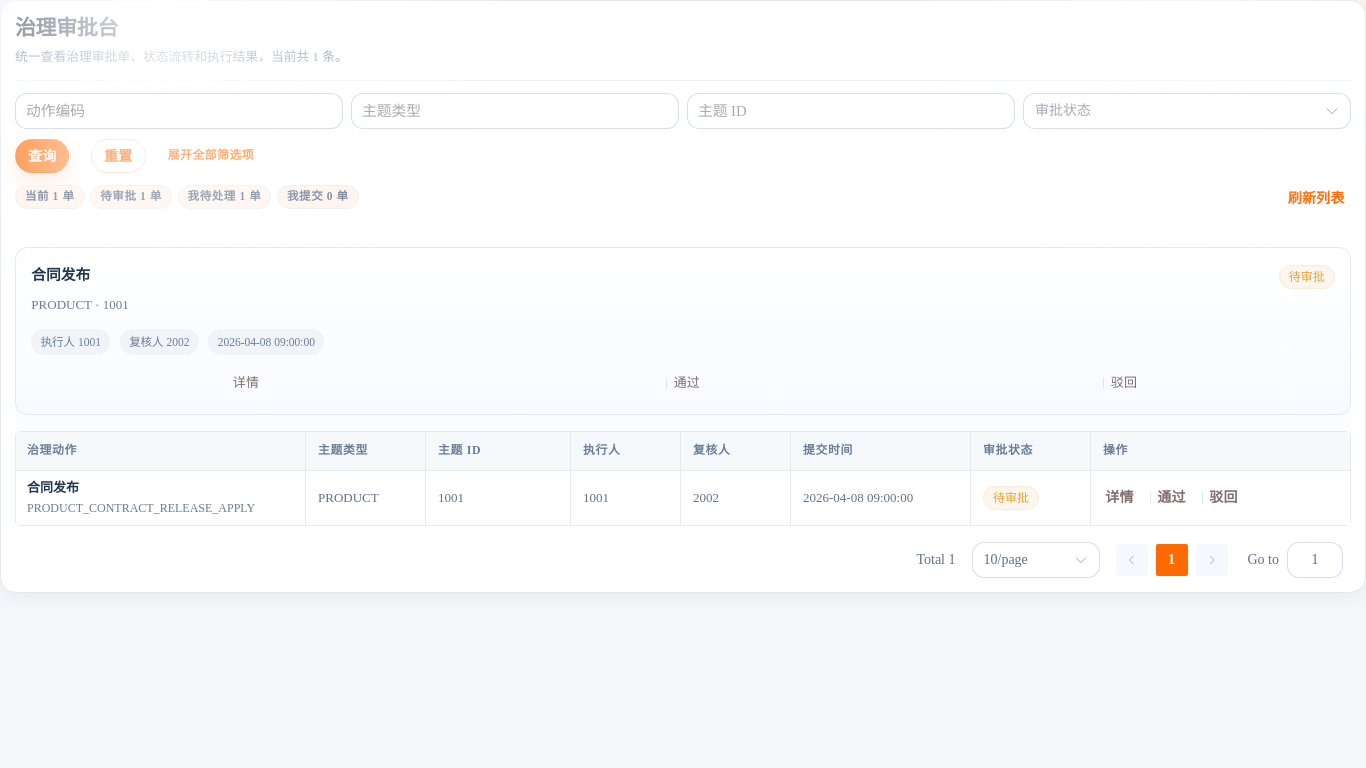
GovernanceApprovalView › opens detail drawer and renders execution result from payloadJson
Click the button "详情" below "执行人 1001" at (246, 383), box [31, 367, 460, 399]
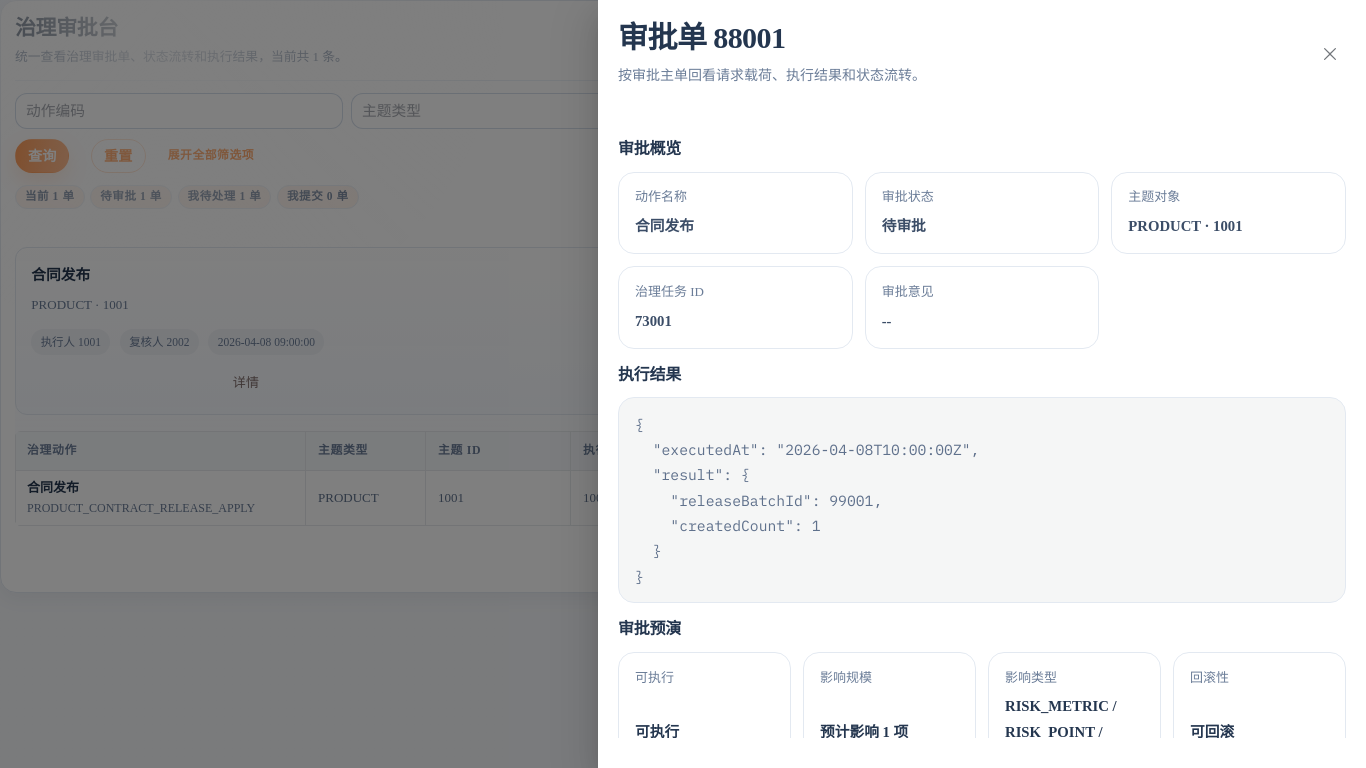
Check: the text "审批概览" is shown, box [618, 140, 681, 157]
Check: the text "99001" is shown, box [635, 415, 979, 586]
Check: the text "73001" is shown, box [635, 313, 672, 329]
